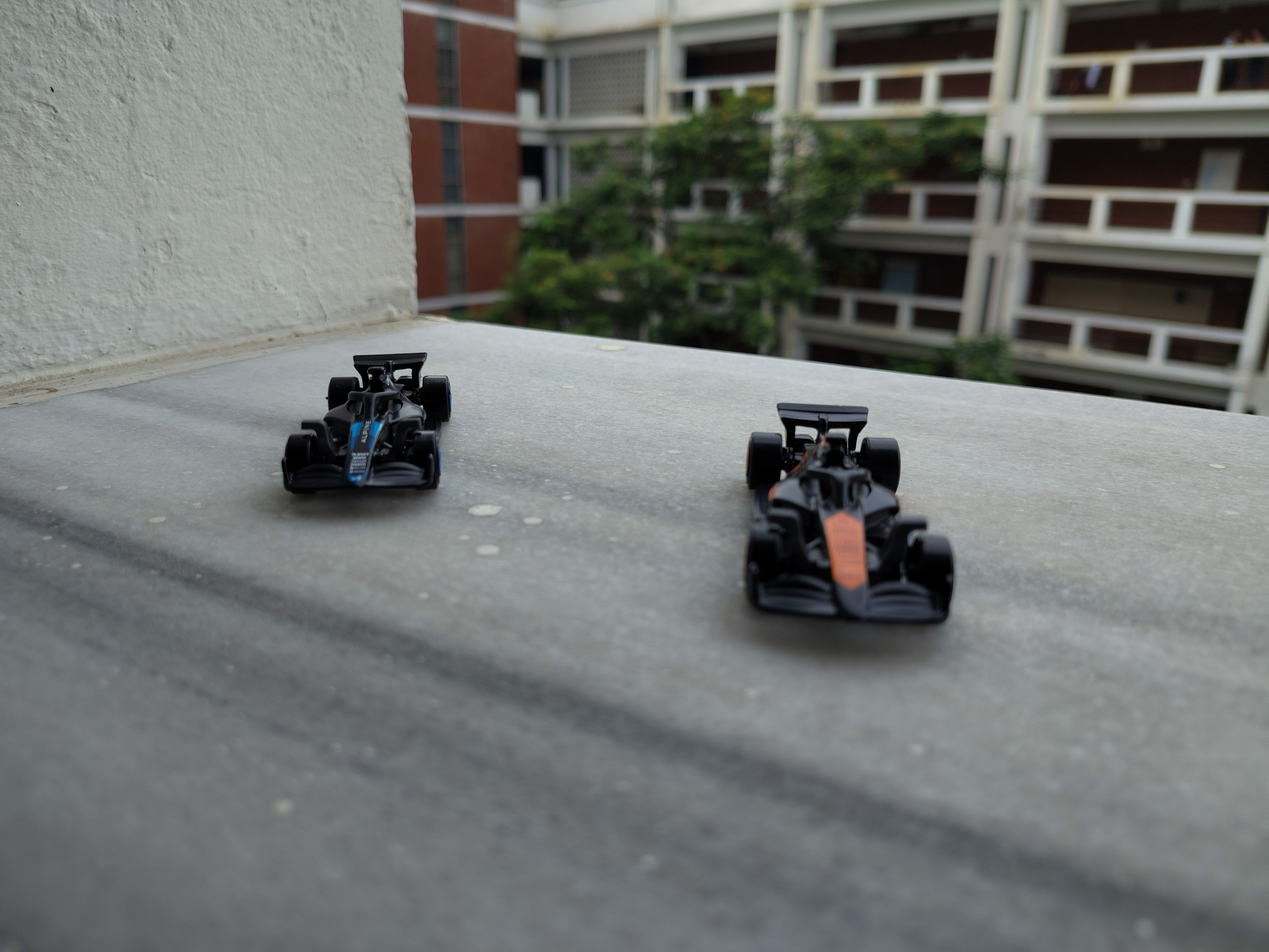Alpine A524: (209, 302, 496, 516)
McLaren MCL40: (677, 347, 995, 683)
